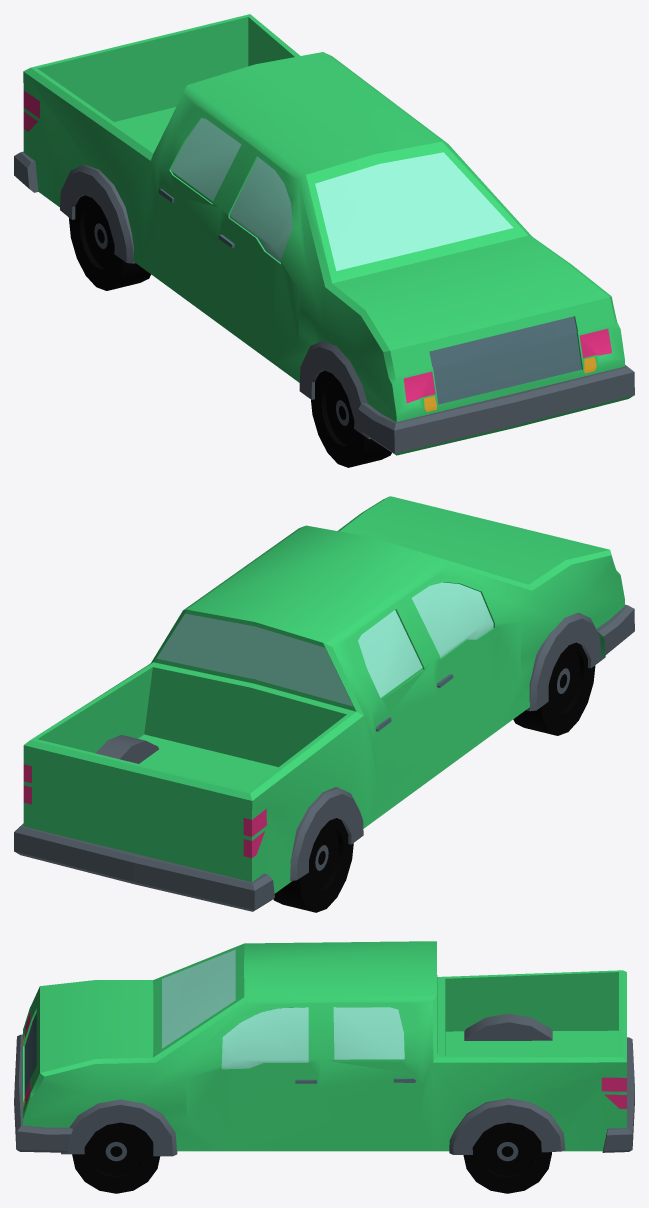
Rendered from PickUpTruck.fbx_GreenTruck.fbx.
3 views of the same model, one above another, from view 1: azimuth 30°, elevation 25°; view 2: azimuth 150°, elevation 25°; view 3: azimuth 270°, elevation 25° (orthographic). The views are drawn at different scales.
Visible parts, largest first — view 1: GreenTruck; view 2: GreenTruck; view 3: GreenTruck.
Boxes of the visible parts, bbox=[...] form: GreenTruck: bbox=[14, 14, 634, 467]; GreenTruck: bbox=[14, 496, 634, 912]; GreenTruck: bbox=[14, 941, 634, 1193].
Size of the model in its own units: 1163 by 430 by 379.
